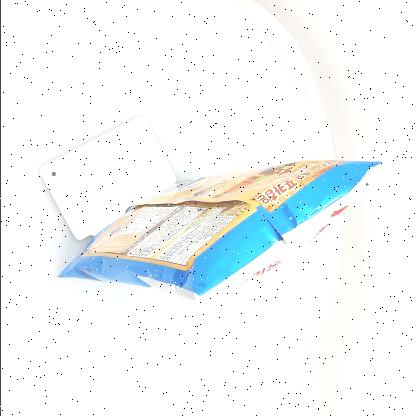Others: (39, 131, 409, 334)
